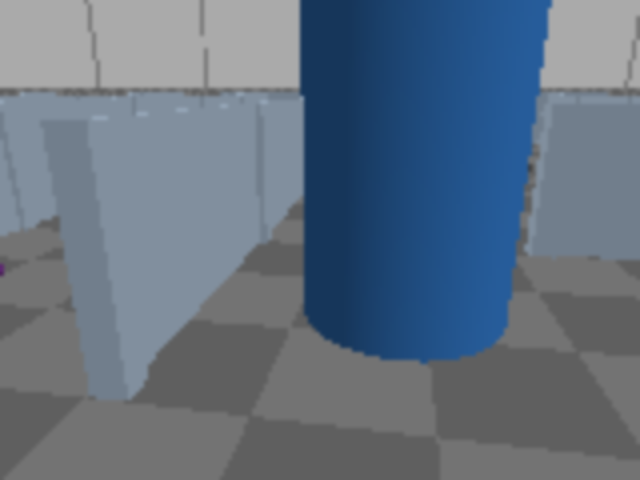person: (291, 0, 638, 361)
